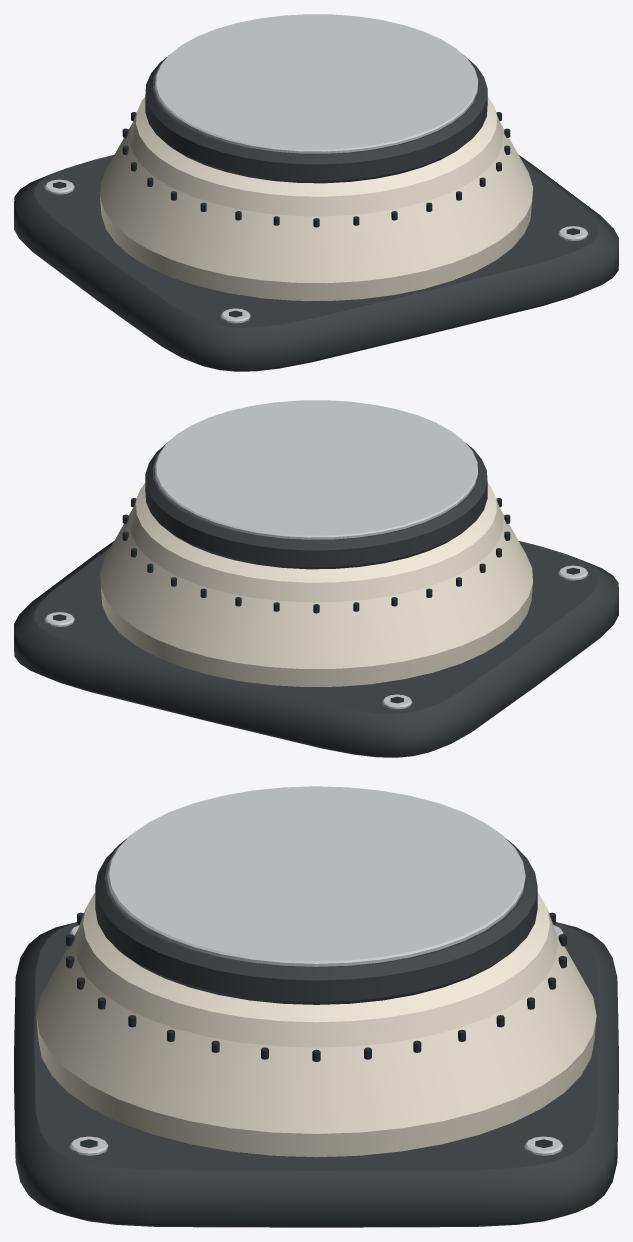
3 views of the same model, one above another, from view 1: azimuth 30°, elevation 25°; view 2: azimuth 150°, elevation 25°; view 3: azimuth 270°, elevation 25° (orthographic). The views are drawn at different scales.
Visible parts, largest first — view 1: Base; view 2: Base; view 3: Base.
Boxes of the visible parts, x1=… form: Base: x1=14, y1=14, x2=618, y2=371; Base: x1=14, y1=400, x2=618, y2=757; Base: x1=14, y1=786, x2=618, y2=1227.
Size of the model in its own units: 0.324 by 0.12 by 0.298.
